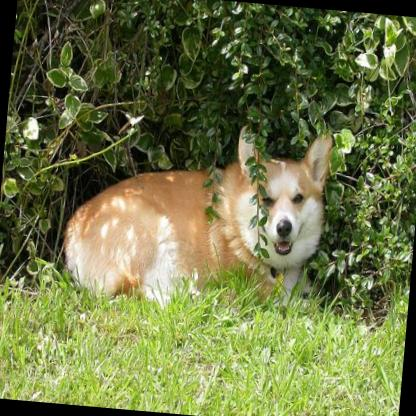Pembroke: (57, 108, 341, 318)
